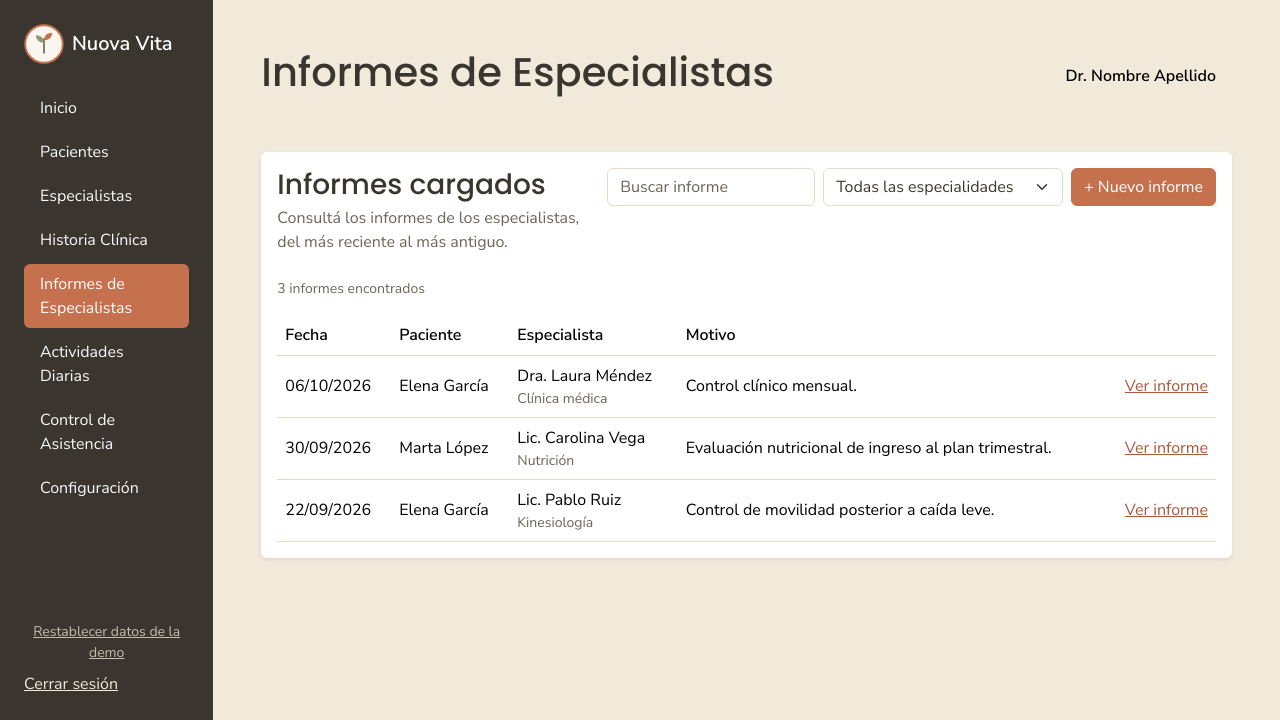
Test: consulta de informes › lista los informes del más reciente al más antiguo y filtra por especialidad
Select "Nutrición" in the dropdown named "Filtrar por especialidad" at (943, 187), box left=823, top=168, right=1063, bottom=206
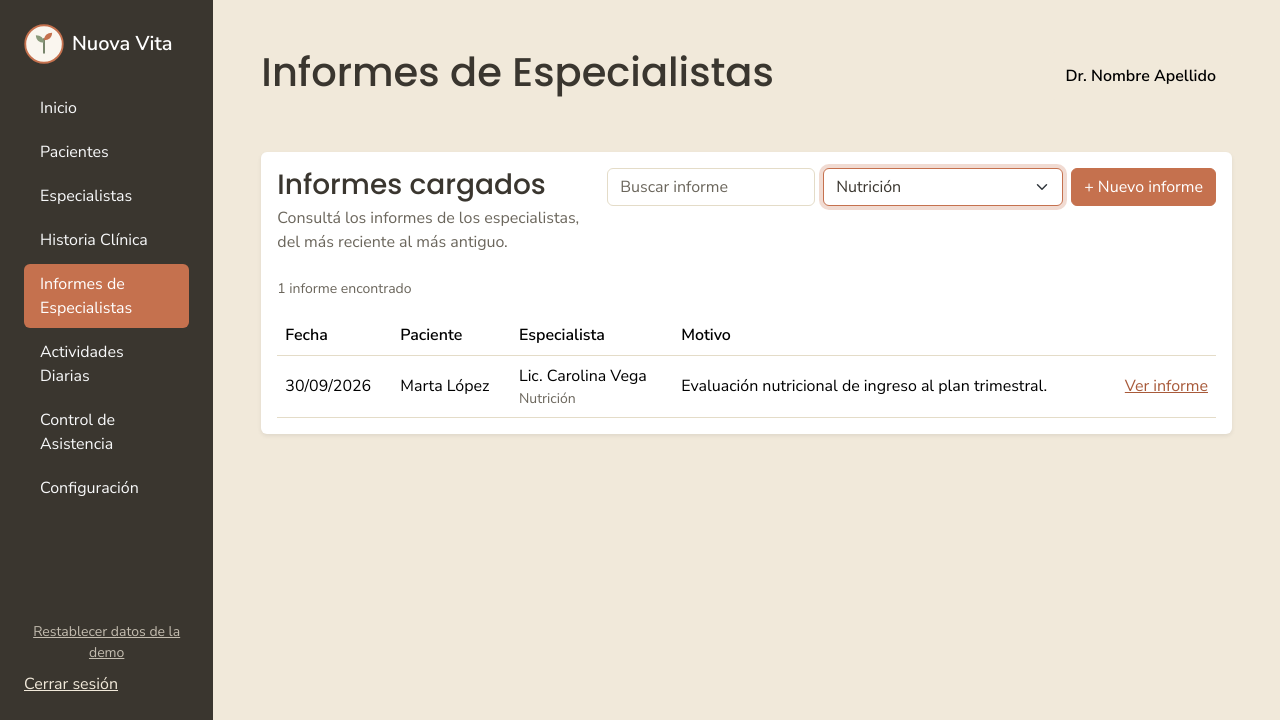
Now the text "1 informe encontrado" is shown, box left=277, top=279, right=412, bottom=298
